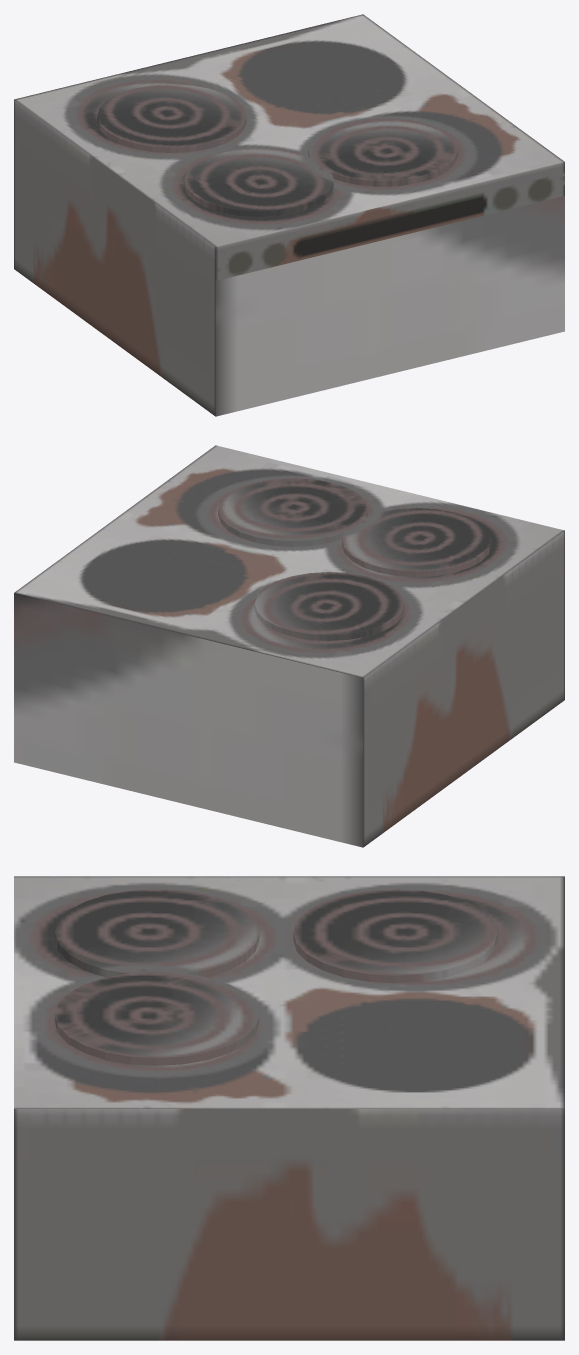
The model's file is Building_AncientStove.glb.
3 renders of one model, top to bottom at view 1: azimuth 30°, elevation 25°; view 2: azimuth 150°, elevation 25°; view 3: azimuth 270°, elevation 25°, orthographic. The views are drawn at different scales.
Parts seen in each view (by area): view 1: AncientStove; view 2: AncientStove; view 3: AncientStove.
Boxes of the visible parts, bbox=[...] form: AncientStove: bbox=[14, 14, 564, 416]; AncientStove: bbox=[14, 445, 564, 847]; AncientStove: bbox=[14, 876, 564, 1340].
Bounding box in the file's own units: 1.94 × 0.93 × 1.94.
Materials: 1 (1 with a texture image).
